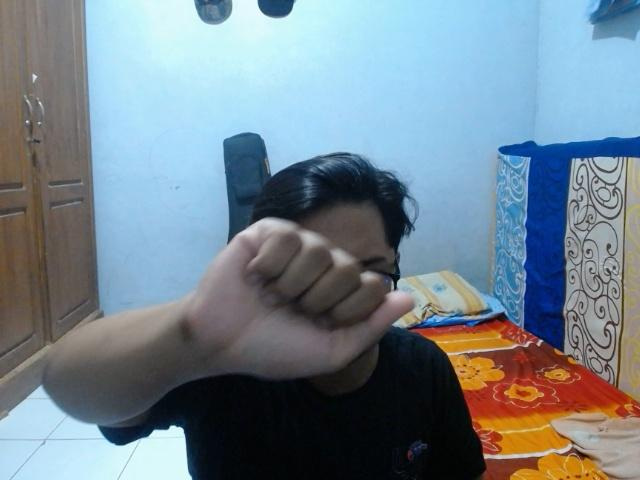Grab: (176, 212, 420, 388)
